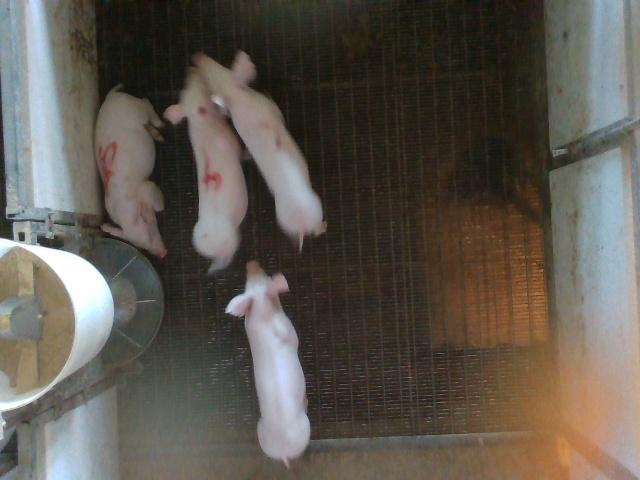pig-2: (192, 51, 326, 249)
pig-4: (164, 68, 248, 273)
pig-5: (95, 85, 166, 258)
